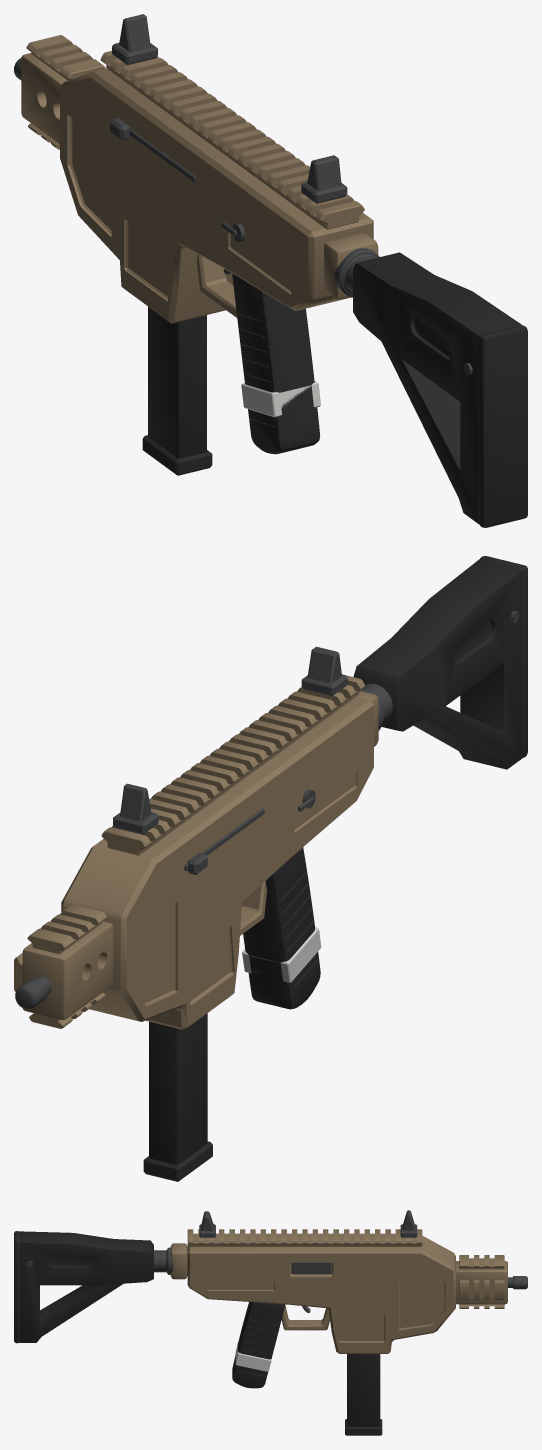
File: VECTOR.glb
The picture shows the model from 3 angles, top to bottom: view 1: azimuth 30°, elevation 25°; view 2: azimuth 150°, elevation 25°; view 3: azimuth 270°, elevation 25°; orthographic projection. The views are drawn at different scales.
Visible parts, largest first — view 1: Body, Furniture, Mag, Metal, Tape; view 2: Body, Furniture, Mag, Metal, Tape; view 3: Body, Furniture, Mag, Metal, Tape.
Part boxes in pixels (x1,y1,x2,y2): Body: (21, 35, 378, 323); Furniture: (232, 252, 527, 527); Mag: (142, 306, 212, 475); Metal: (14, 14, 472, 375); Tape: (241, 381, 320, 417); Body: (14, 675, 378, 1029); Furniture: (243, 556, 527, 1009); Mag: (143, 1013, 212, 1181); Metal: (15, 611, 518, 1009); Tape: (242, 927, 321, 982); Body: (170, 1229, 507, 1353); Furniture: (14, 1231, 285, 1388); Mag: (345, 1354, 382, 1435); Metal: (26, 1210, 527, 1312); Tape: (235, 1342, 271, 1371).
Bounding box in the file's own units: 0.28 × 1.44 × 3.07.
